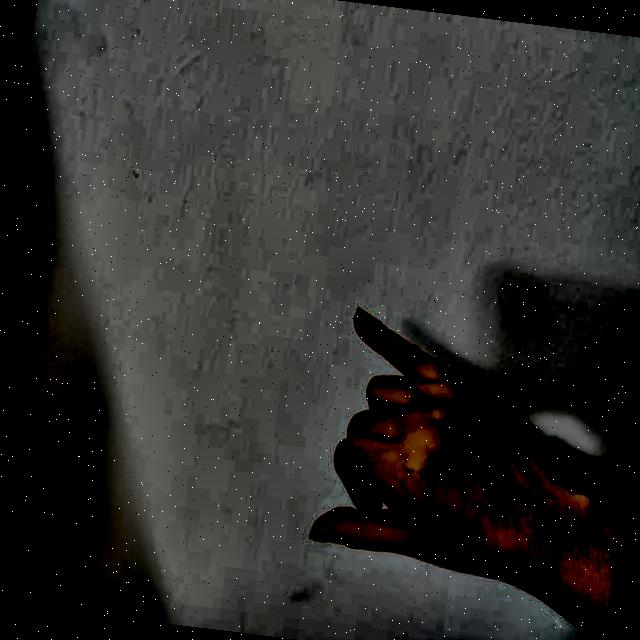Oi: (265, 260, 566, 624)
